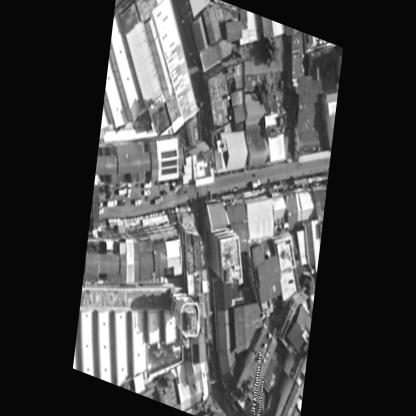solar-pv-panel: (161, 149, 177, 158), (161, 160, 177, 167), (161, 167, 177, 174)
